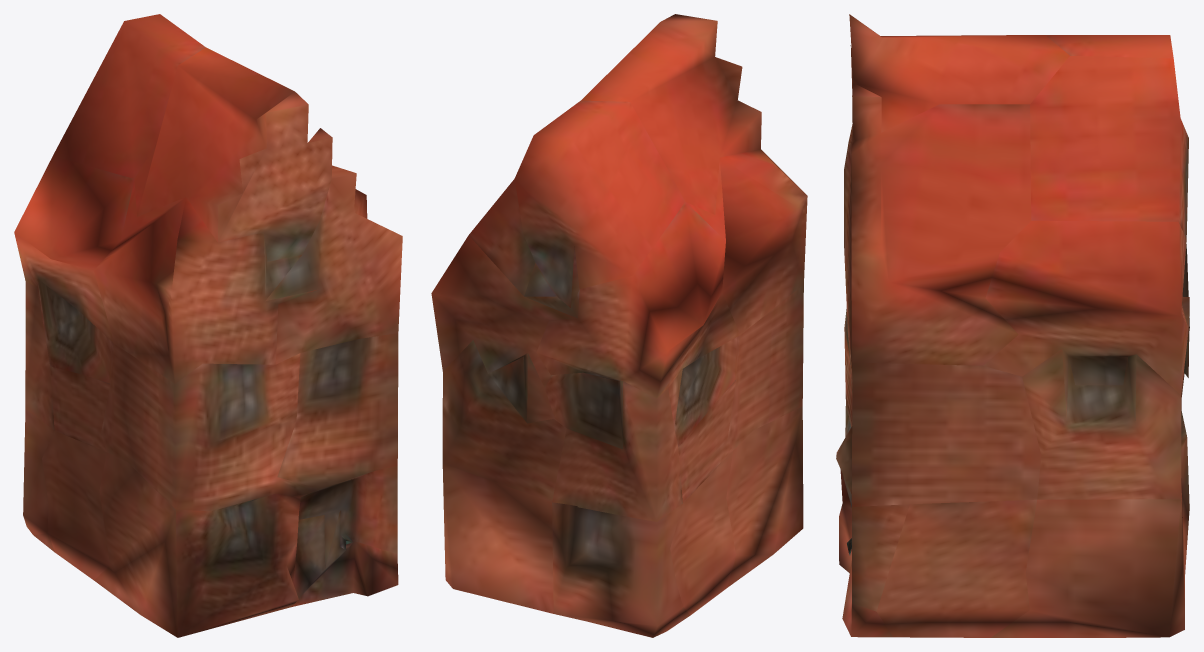
Rendered from house_north_lo.glb.
The picture shows the model from 3 angles, left to right: view 1: azimuth 30°, elevation 25°; view 2: azimuth 150°, elevation 25°; view 3: azimuth 270°, elevation 25°; orthographic projection. The views are drawn at different scales.
Visible parts, largest first — view 1: tripo_node_d751e217-da3e-4f56-9e16-d252f5362987; view 2: tripo_node_d751e217-da3e-4f56-9e16-d252f5362987; view 3: tripo_node_d751e217-da3e-4f56-9e16-d252f5362987.
Boxes of the visible parts, x1,y1,x2,y2 form: tripo_node_d751e217-da3e-4f56-9e16-d252f5362987: [14, 14, 402, 637]; tripo_node_d751e217-da3e-4f56-9e16-d252f5362987: [431, 14, 807, 637]; tripo_node_d751e217-da3e-4f56-9e16-d252f5362987: [836, 14, 1189, 637].
Size of the model in its own units: 0.4952 by 0.9765 by 0.567.
1 material, 1 textured.
